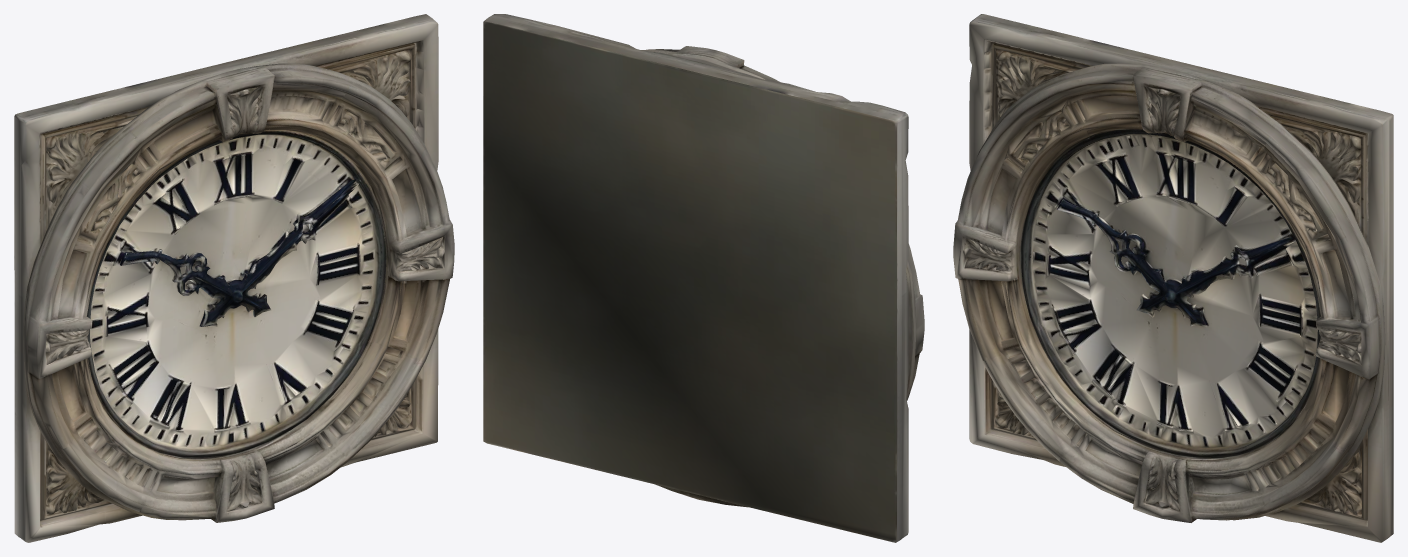
Rendered from clock_tower_face.glb.
3 views of the same model, side by side, from view 1: azimuth 30°, elevation 25°; view 2: azimuth 150°, elevation 25°; view 3: azimuth 330°, elevation 25° (orthographic).
Visible parts, largest first — view 1: node_0; view 2: node_0; view 3: node_0.
Part boxes in pixels (bbox=[...]): node_0: bbox=[14, 14, 454, 542]; node_0: bbox=[483, 14, 924, 542]; node_0: bbox=[953, 14, 1393, 542].
Bounding box in the file's own units: 0.861 × 0.8608 × 0.0943.
Materials: 1 (1 with a texture image).
